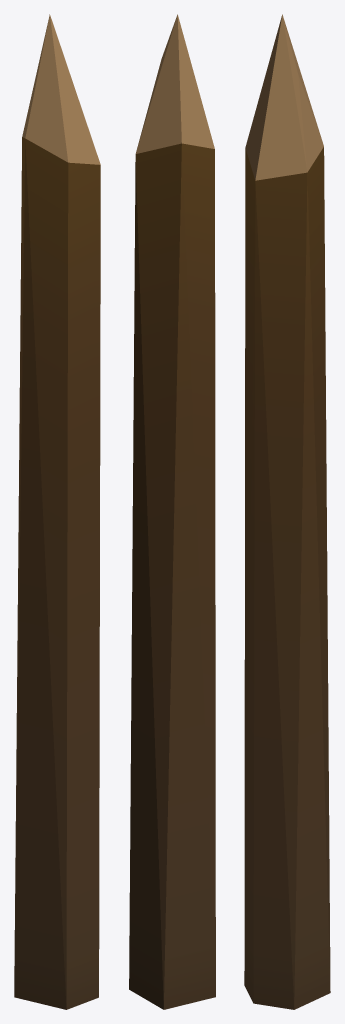
Rendered from FenceBig_06.fbx.
3 renders of one model, left to right at view 1: azimuth 90°, elevation 25°; view 2: azimuth 150°, elevation 25°; view 3: azimuth 330°, elevation 25°, orthographic.
Visible parts, largest first — view 1: FenceBig_06; view 2: FenceBig_06; view 3: FenceBig_06.
Part boxes in pixels (<box>): FenceBig_06: <box>14,14,100,1009</box>; FenceBig_06: <box>129,14,215,1009</box>; FenceBig_06: <box>244,14,330,1009</box>.
Size of the model in its own units: 0.2131 by 2.74 by 0.2194.
